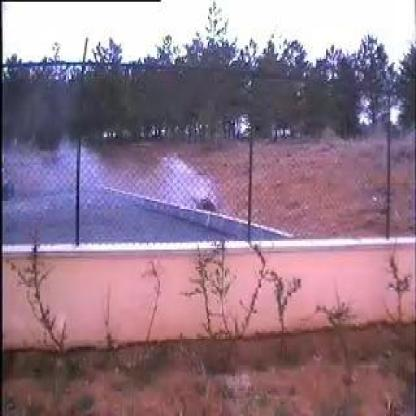-: (38, 120, 222, 234)
